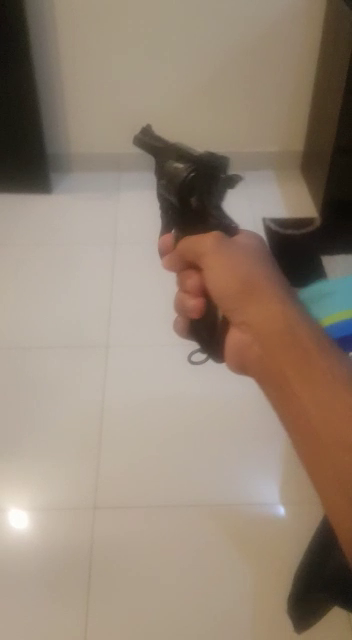handgun: (115, 120, 352, 403)
